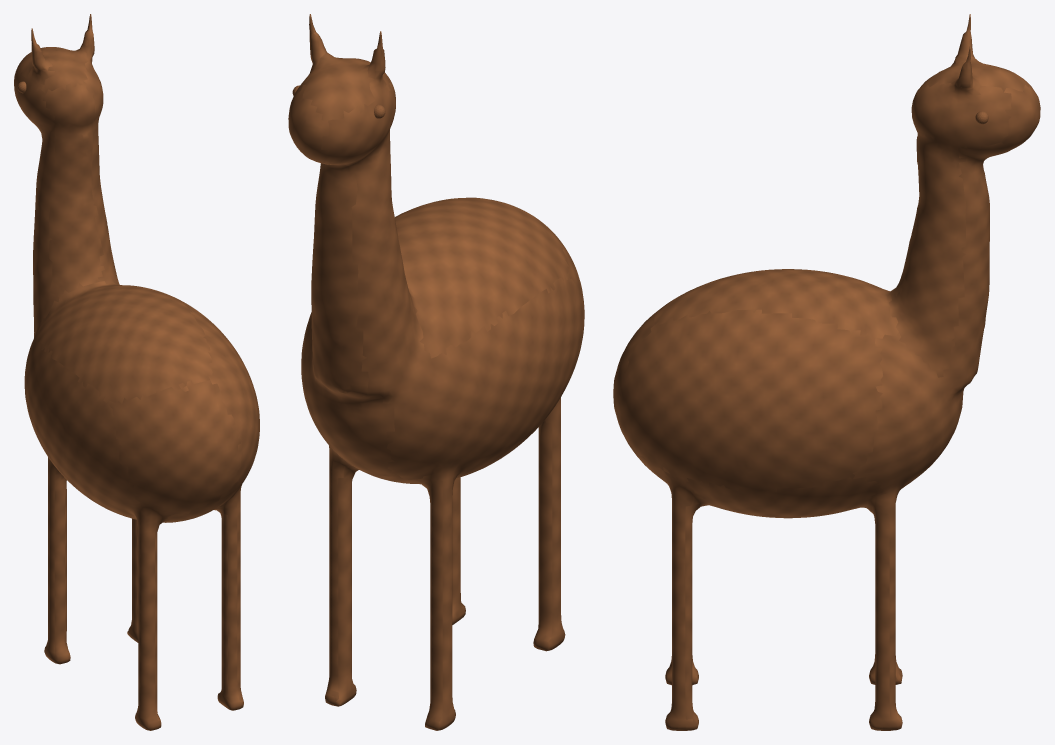
Rendered from llama_weld_review.glb.
3 renders of one model, left to right at view 1: azimuth 30°, elevation 25°; view 2: azimuth 150°, elevation 25°; view 3: azimuth 270°, elevation 25°, orthographic. The views are drawn at different scales.
Visible parts, largest first — view 1: welded_body_review; view 2: welded_body_review; view 3: welded_body_review.
Boxes of the visible parts, bbox=[...] form: welded_body_review: bbox=[14, 14, 259, 730]; welded_body_review: bbox=[288, 14, 584, 730]; welded_body_review: bbox=[613, 14, 1040, 730].
Bounding box in the file's own units: 0.7561 × 2.47 × 1.41.
Materials: 1 (1 with a texture image).
